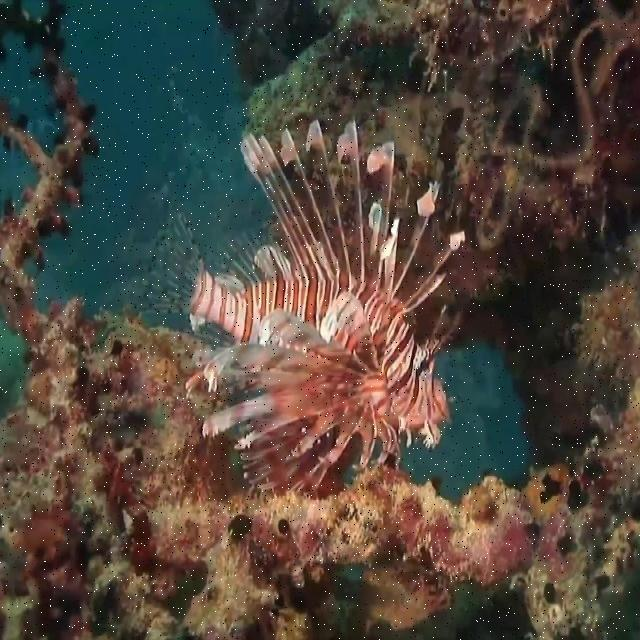fish: (140, 122, 458, 499)
reefs: (0, 1, 639, 636), (216, 7, 639, 304)
